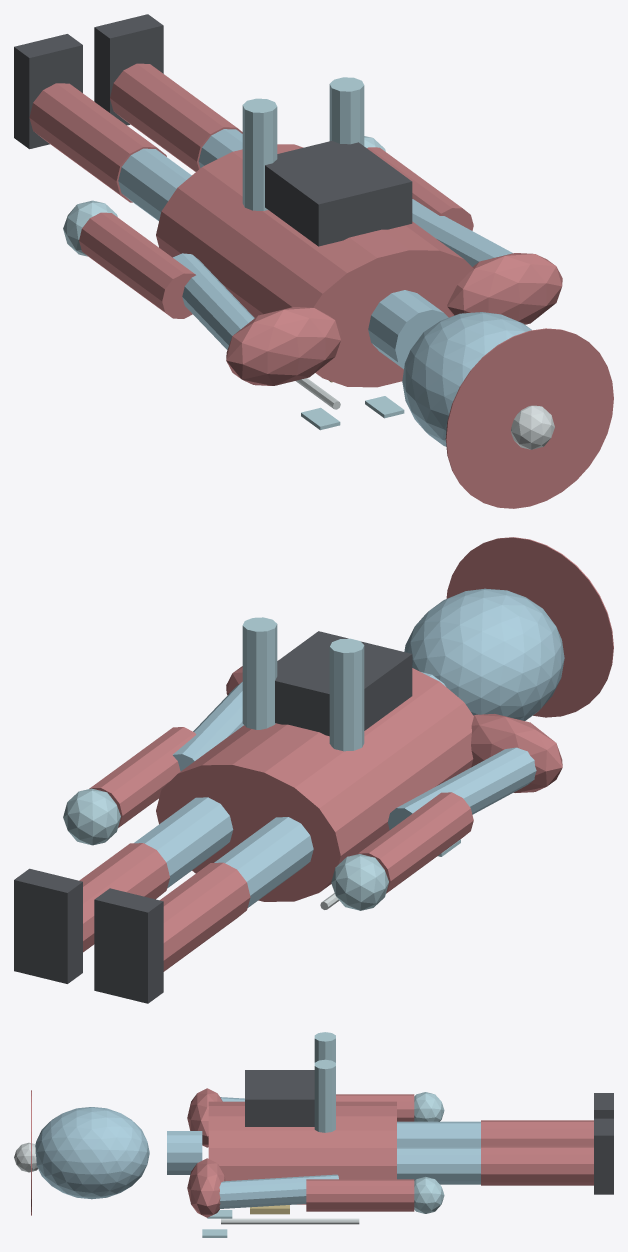
The model's file is SWN-039_pell_aetheron.glb.
The picture shows the model from 3 angles, top to bottom: view 1: azimuth 30°, elevation 25°; view 2: azimuth 150°, elevation 25°; view 3: azimuth 270°, elevation 25°; orthographic projection. The views are drawn at different scales.
Parts seen in each view (by area): view 1: body_spine, rank_halo_ring, back_thruster_pack, head, shoulder_plate_-1, greave_-1, greave_1, forearm_gauntlet_-1, shoulder_plate_1, boot_-1, boot_1, neck (+9 smaller); view 2: body_spine, head, rank_halo_ring, back_thruster_pack, boot_-1, boot_1, greave_-1, forearm_gauntlet_-1, thigh_1, thigh_-1, upper_arm_-1, forearm_gauntlet_1 (+7 smaller); view 3: body_spine, head, greave_1, back_thruster_pack, forearm_gauntlet_1, thigh_1, greave_-1, upper_arm_1, thigh_-1, shoulder_plate_1, aether_thruster_1, boot_1 (+10 smaller).
Part boxes in pixels (box(x1,y1,x2,y2)): body_spine: box(156, 144, 473, 387); rank_halo_ring: box(445, 328, 613, 508); back_thruster_pack: box(265, 141, 412, 246); head: box(402, 312, 531, 446); shoulder_plate_-1: box(226, 307, 341, 385); greave_-1: box(29, 83, 166, 202); greave_1: box(110, 63, 242, 171); forearm_gauntlet_-1: box(79, 212, 195, 318); shoulder_plate_1: box(447, 253, 562, 324); boot_-1: box(14, 34, 82, 149); boot_1: box(94, 14, 163, 125); neck: box(368, 290, 448, 369); body_spine: box(156, 668, 473, 901); head: box(404, 588, 564, 720); rank_halo_ring: box(446, 537, 613, 717); back_thruster_pack: box(275, 631, 412, 736); boot_-1: box(94, 888, 163, 1003); boot_1: box(14, 868, 82, 983); greave_-1: box(160, 862, 250, 971); forearm_gauntlet_-1: box(357, 792, 473, 893); thigh_1: box(134, 797, 233, 888); thigh_-1: box(214, 817, 313, 907); upper_arm_-1: box(388, 747, 536, 829); forearm_gauntlet_1: box(89, 727, 196, 827); body_spine: box(208, 1101, 396, 1204); head: box(35, 1107, 149, 1199); greave_1: box(481, 1145, 593, 1185); back_thruster_pack: box(245, 1070, 314, 1126); forearm_gauntlet_1: box(306, 1179, 414, 1211); thigh_1: box(397, 1147, 480, 1184); greave_-1: box(481, 1120, 593, 1145); upper_arm_1: box(219, 1174, 338, 1208); thigh_-1: box(397, 1121, 480, 1146); shoulder_plate_1: box(187, 1158, 225, 1217); aether_thruster_1: box(314, 1059, 335, 1132); boot_1: box(594, 1118, 613, 1194).
Size of the model in its own units: 1 by 0.725 by 2.39.
